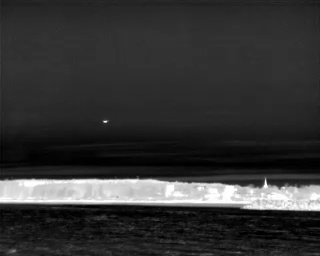BIRD: (101, 117, 110, 127)
